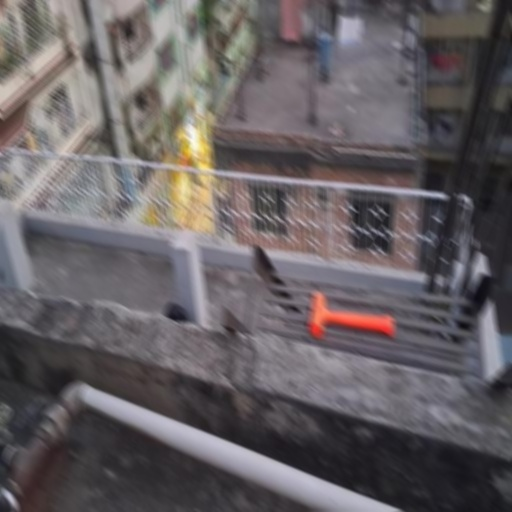mallet: (313, 294, 394, 350)
